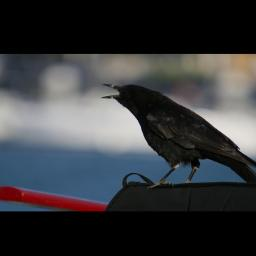Crow: (98, 81, 256, 192)
